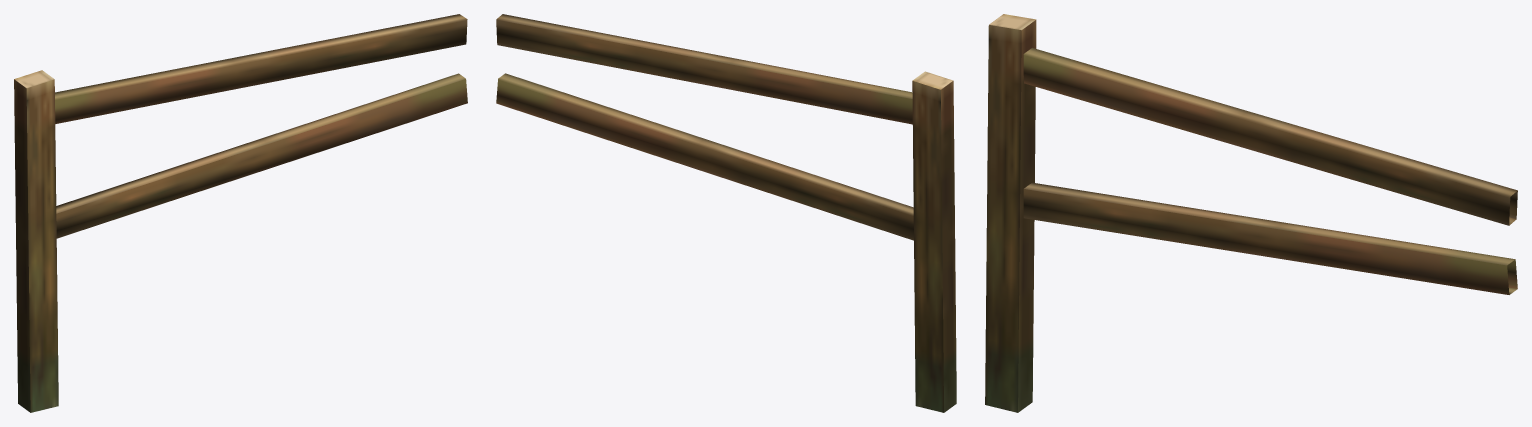
The model's file is general_obj_fence02.fbx.
3 renders of one model, left to right at view 1: azimuth 30°, elevation 25°; view 2: azimuth 150°, elevation 25°; view 3: azimuth 330°, elevation 25°, orthographic. The views are drawn at different scales.
Visible parts, largest first — view 1: Sphere01; view 2: Sphere01; view 3: Sphere01.
Boxes of the visible parts, x1=… form: Sphere01: x1=14, y1=14, x2=467, y2=412; Sphere01: x1=496, y1=14, x2=956, y2=412; Sphere01: x1=985, y1=14, x2=1517, y2=412.
Bounding box in the file's own units: 3.19 × 2.23 × 0.2022.
